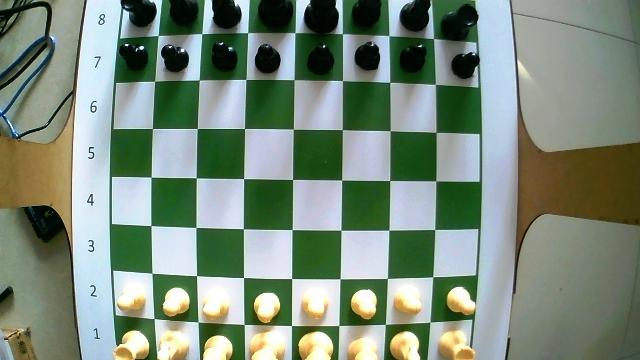piece: (441, 5, 477, 40), (303, 0, 338, 33), (258, 0, 294, 28), (440, 330, 473, 359), (115, 331, 149, 359), (400, 0, 430, 30), (158, 330, 189, 359), (250, 332, 283, 359), (298, 332, 331, 359), (121, 0, 156, 25), (211, 0, 240, 28), (201, 288, 229, 316), (390, 332, 419, 359), (351, 0, 380, 27), (252, 293, 279, 322), (168, 0, 198, 26), (351, 289, 377, 319), (162, 288, 189, 316), (211, 42, 238, 70), (446, 287, 474, 314), (161, 45, 188, 72), (201, 336, 232, 359), (307, 45, 333, 72), (254, 44, 279, 72), (452, 52, 478, 78), (301, 290, 328, 315), (355, 42, 378, 70), (119, 46, 148, 68), (401, 45, 425, 71), (394, 287, 418, 313), (349, 338, 376, 359), (117, 292, 144, 308)
